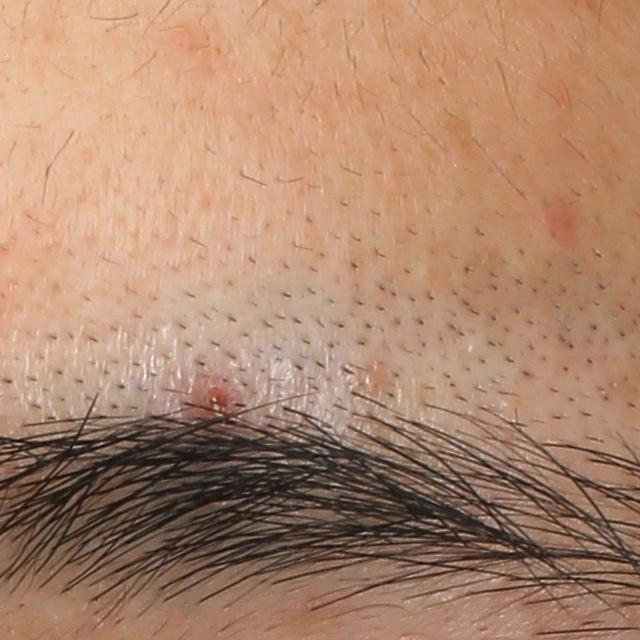papule: (196, 377, 241, 421)
